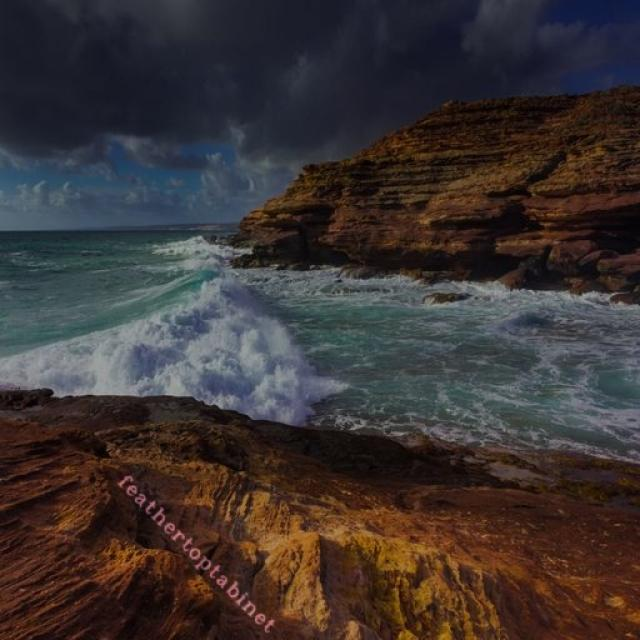watermark: (111, 466, 282, 637)
